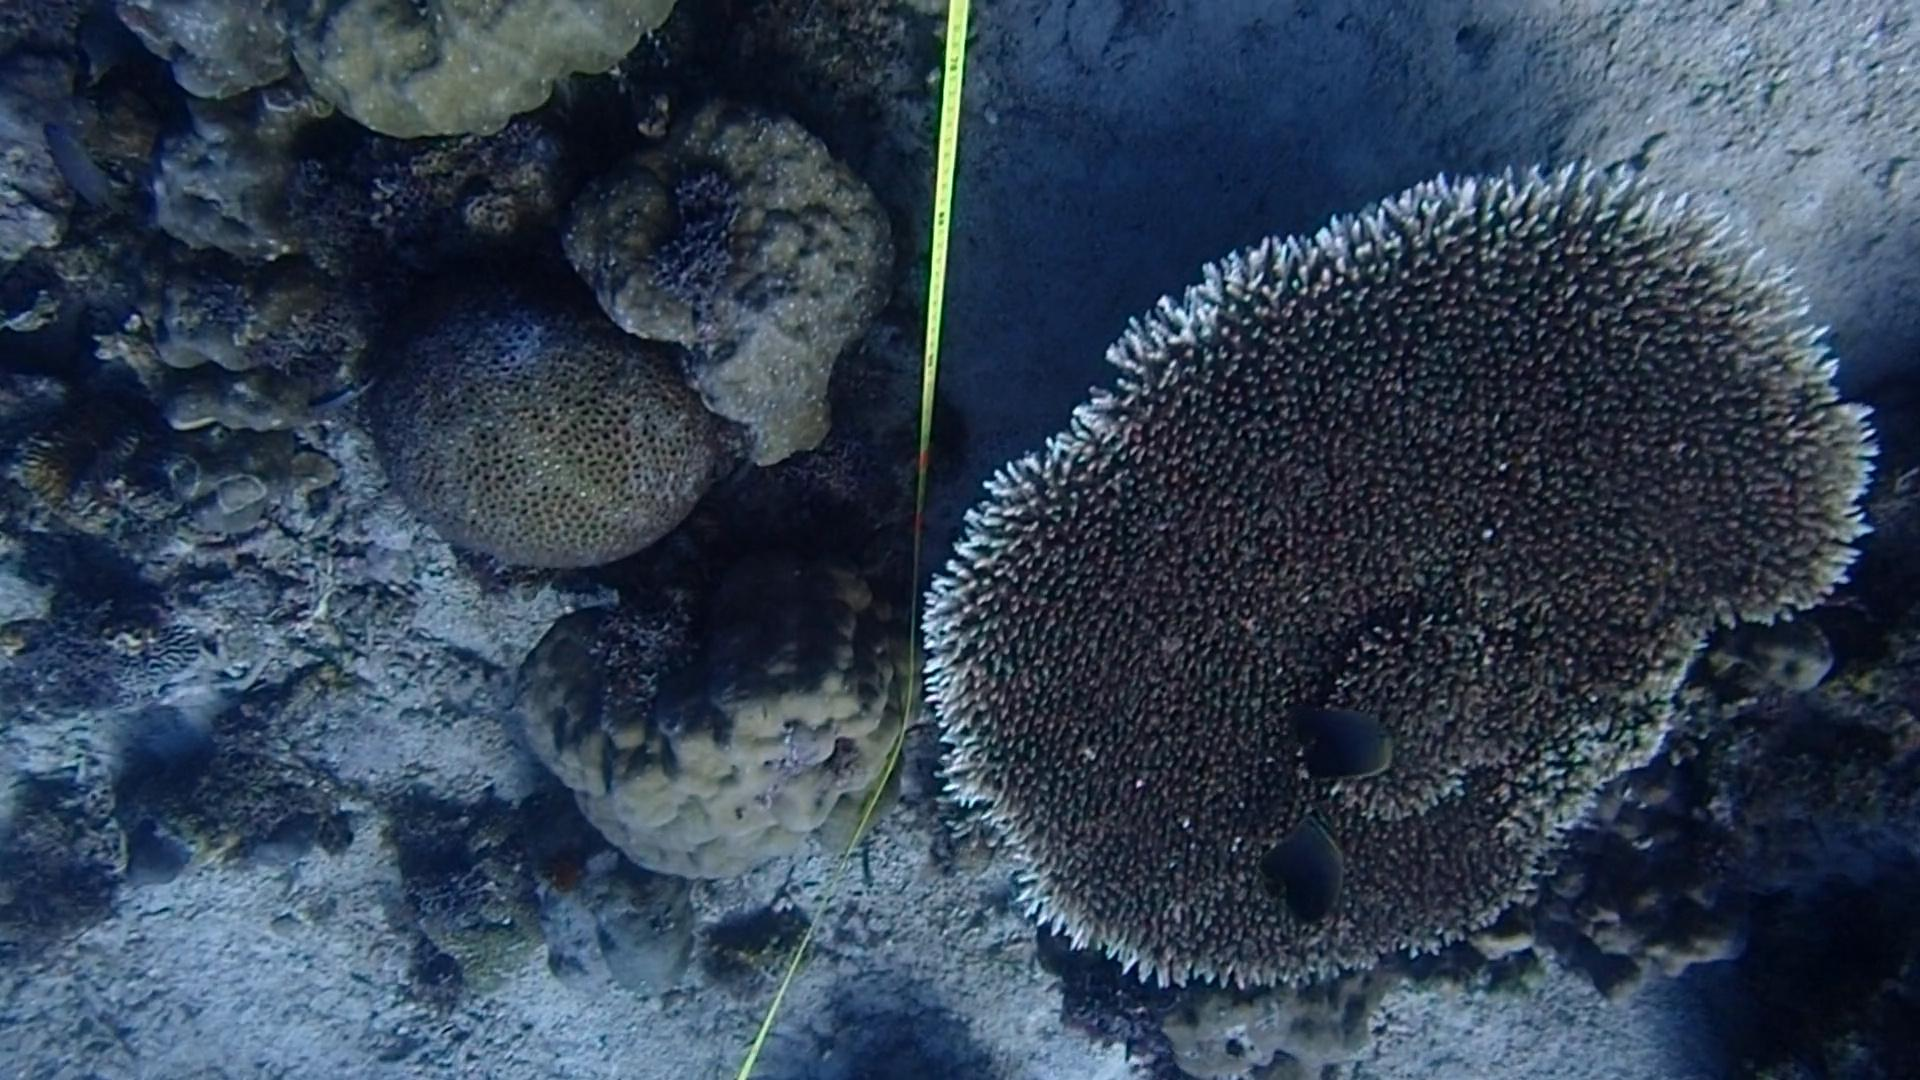Dark Blue Dory: (1284, 698, 1412, 799), (1255, 827, 1366, 934)
Light Fish: (278, 365, 401, 430)
